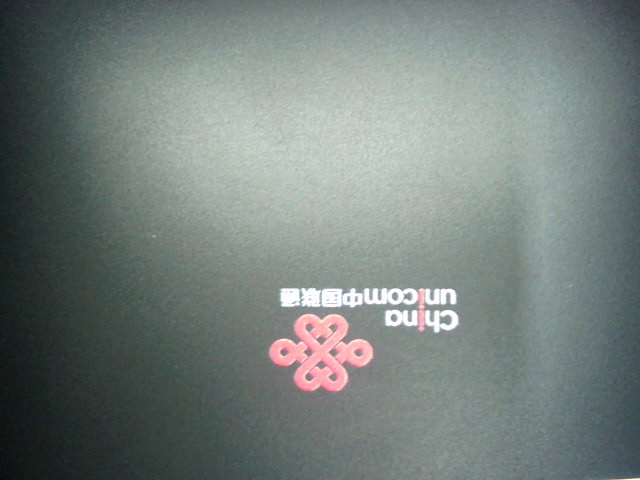AC_ChinaUnicom: (237, 269, 472, 401)
